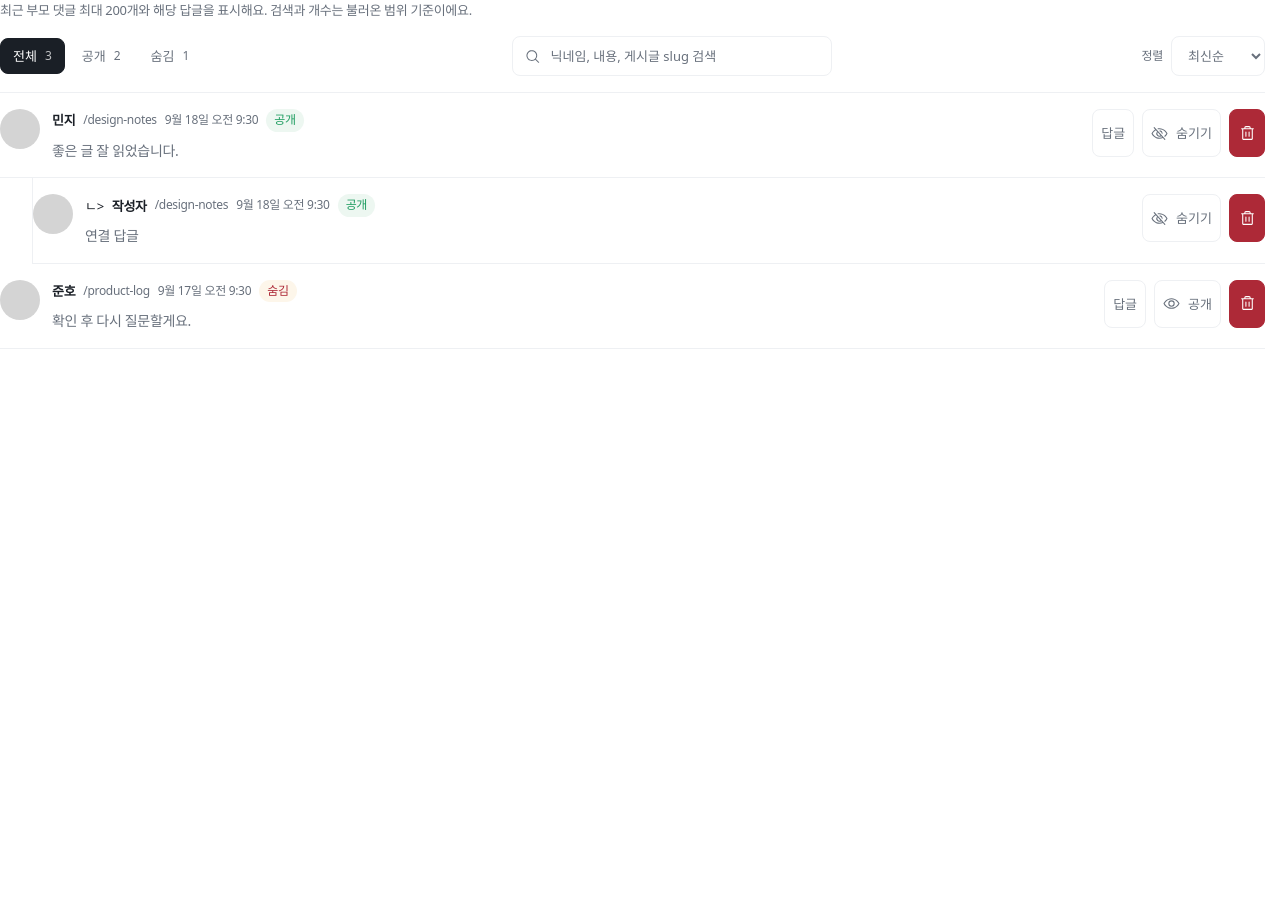
AdminComments › describes child impact and deletes the parent and its replies with one confirmed request
The image size is (1280, 900).
expect the text "민지" is shown: met, box [52,110,75,130]
Click the button named "민지 댓글 삭제" in the row of "민지": (1247, 133) [1229,109,1265,157]
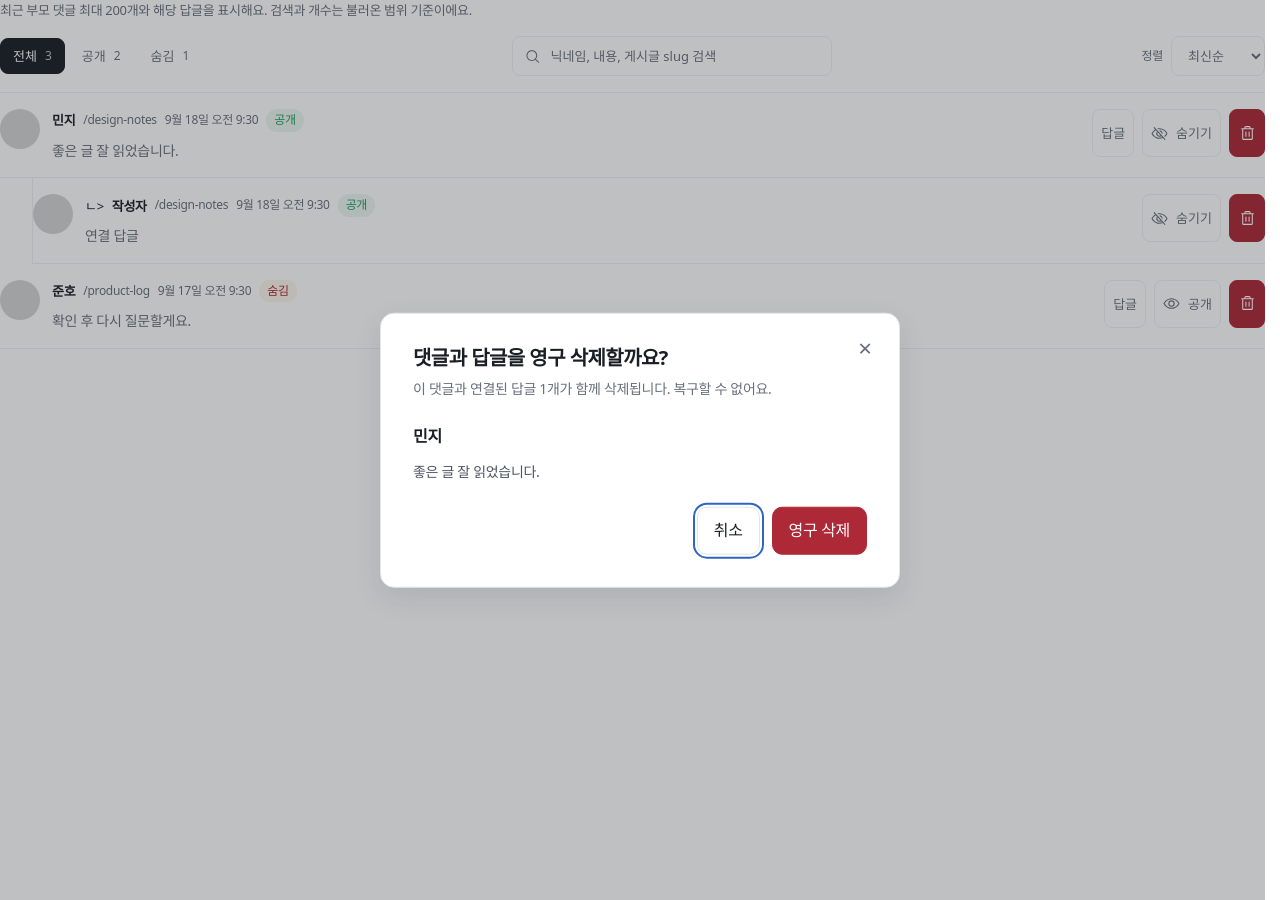
expect the dialog shows "답글 1개가 함께 삭제": met, box [413,379,771,398]
Click the button "영구 삭제": (819, 530) [772,506,867,554]
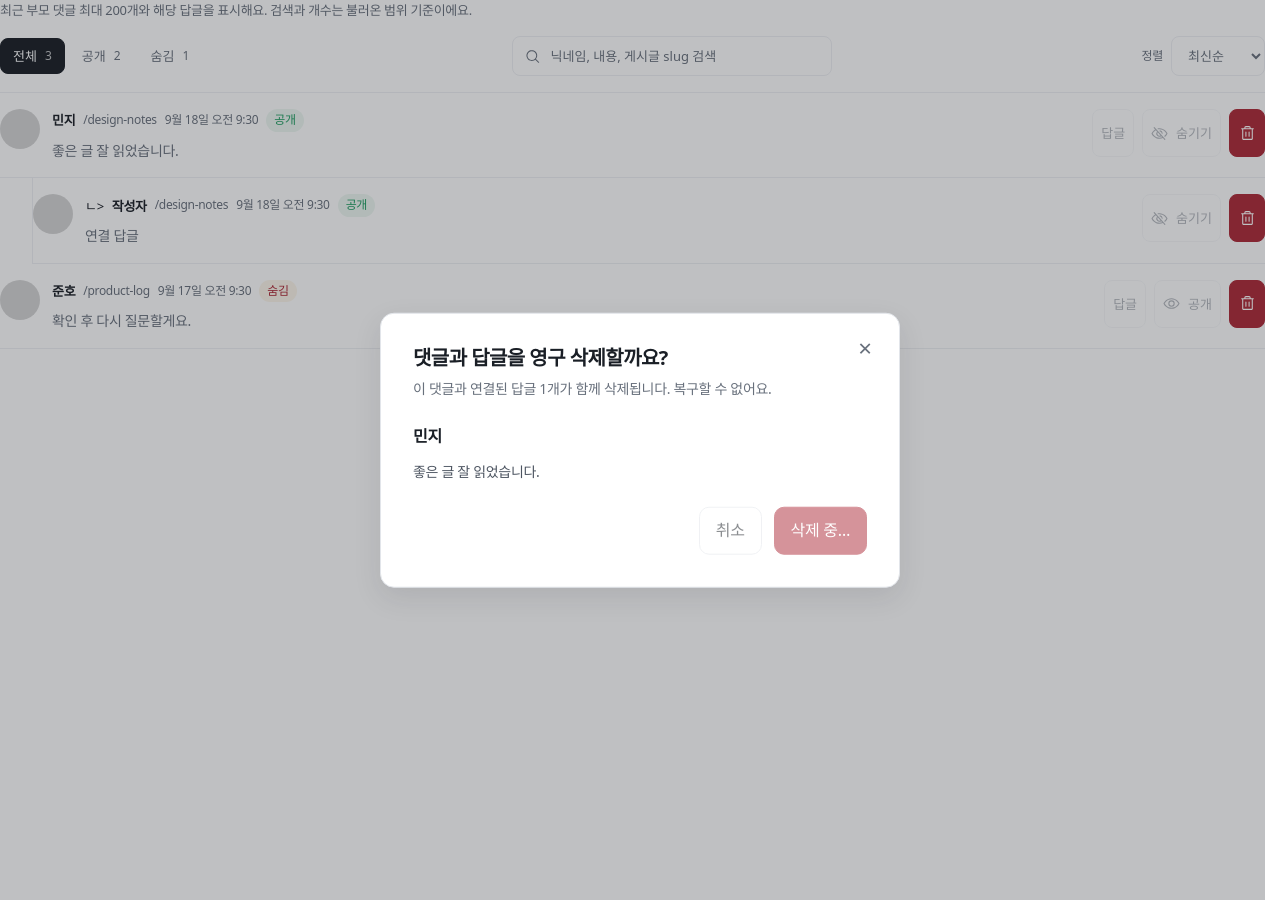
Click the button named "영구 삭제": (820, 530) [774,506,867,554]
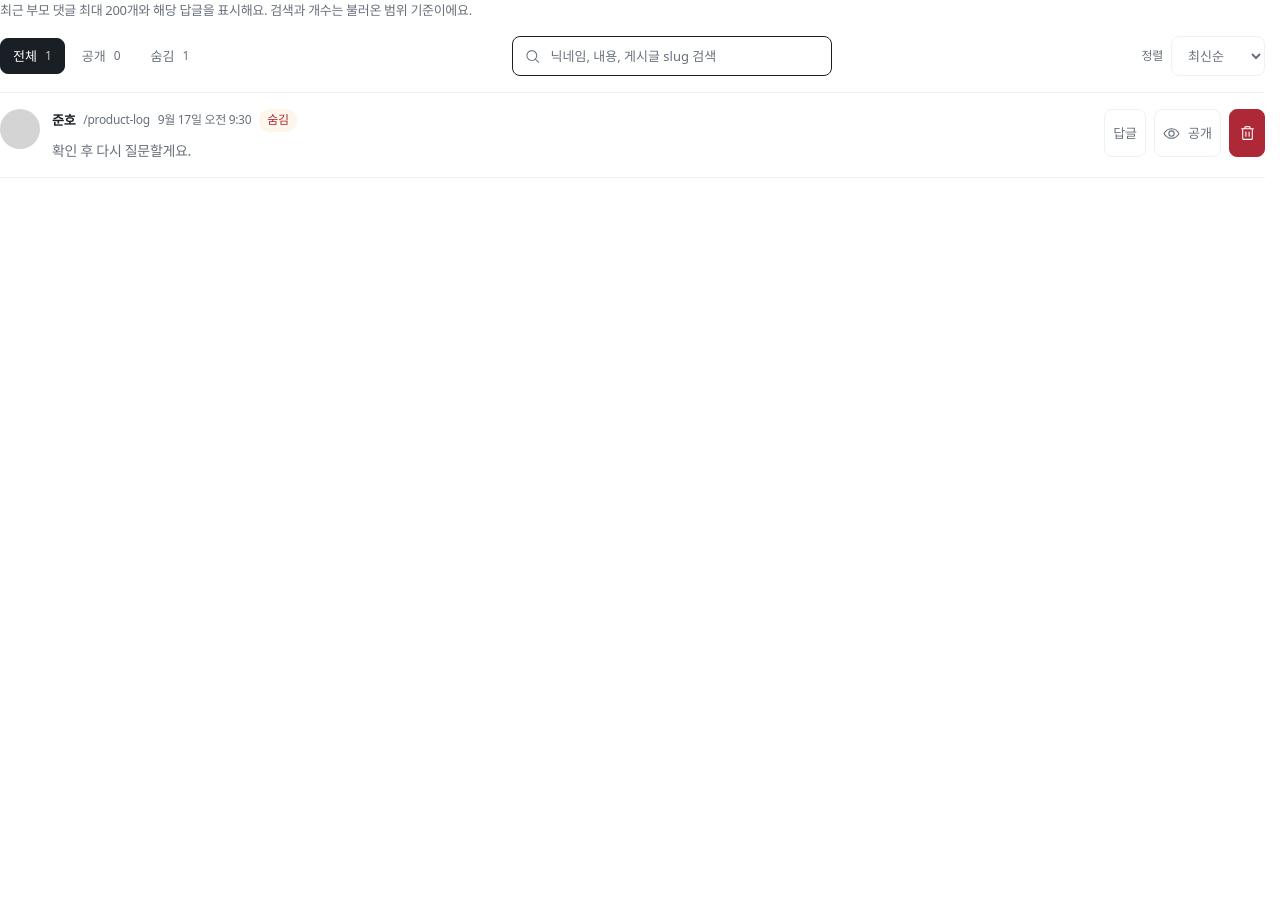
expect the dialog is gone: met
expect the text "연결 답글" is gone: met
expect the text "민지" is gone: met
